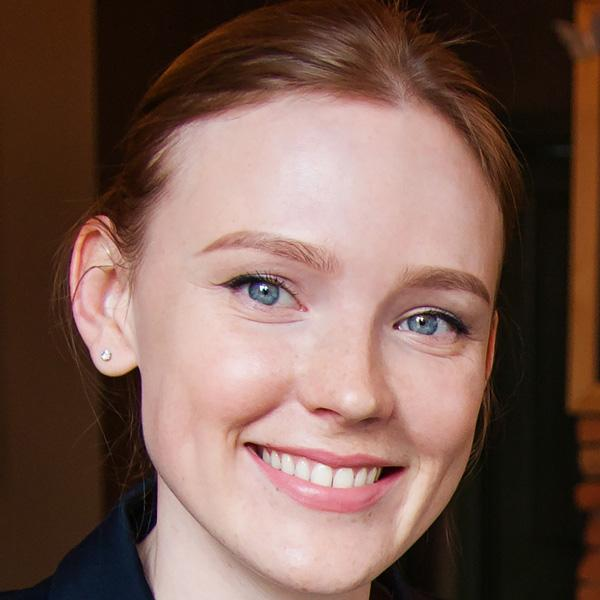Eyes: (210, 263, 312, 324), (386, 299, 468, 352)
